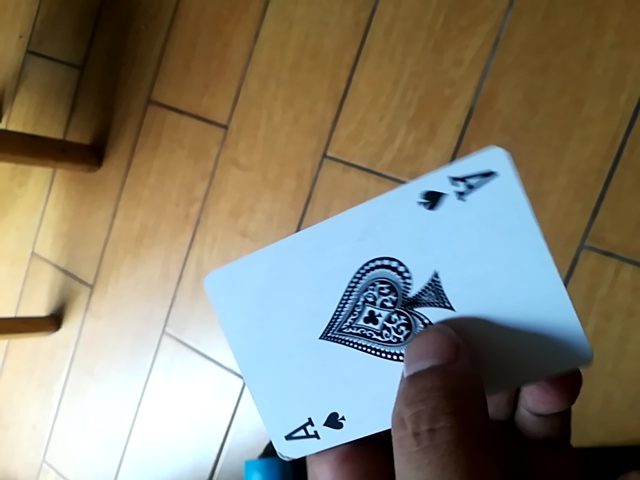ht a: (211, 139, 574, 464)
